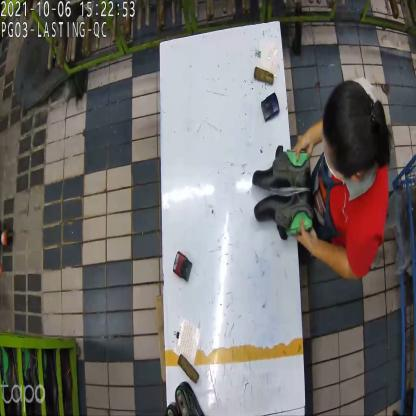shoes: (252, 151, 312, 238)
stamp: (173, 250, 195, 283), (260, 91, 280, 125)
